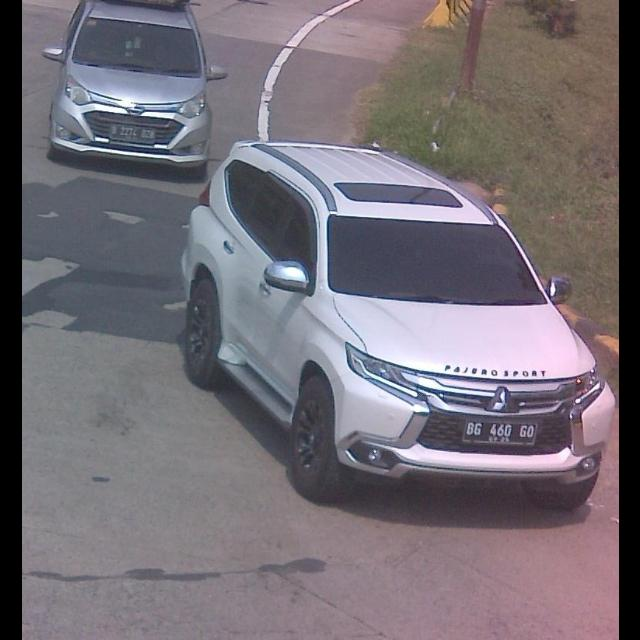plate: (458, 415, 542, 448)
